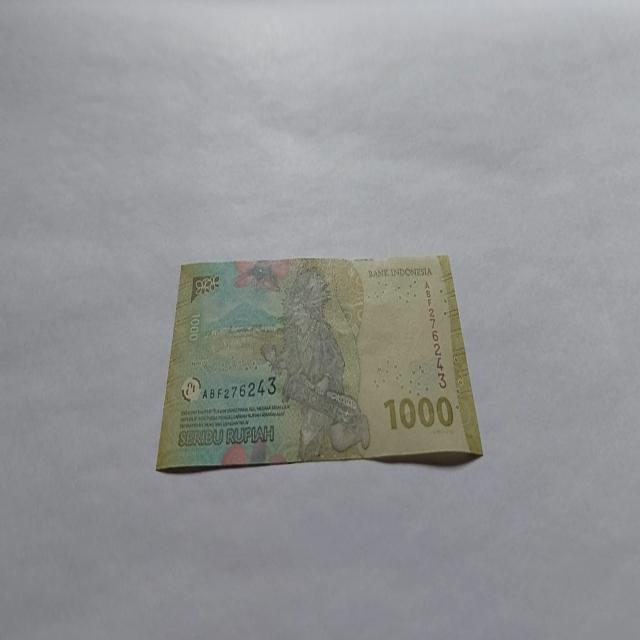seribu rupiah kertas: (154, 252, 483, 473)
